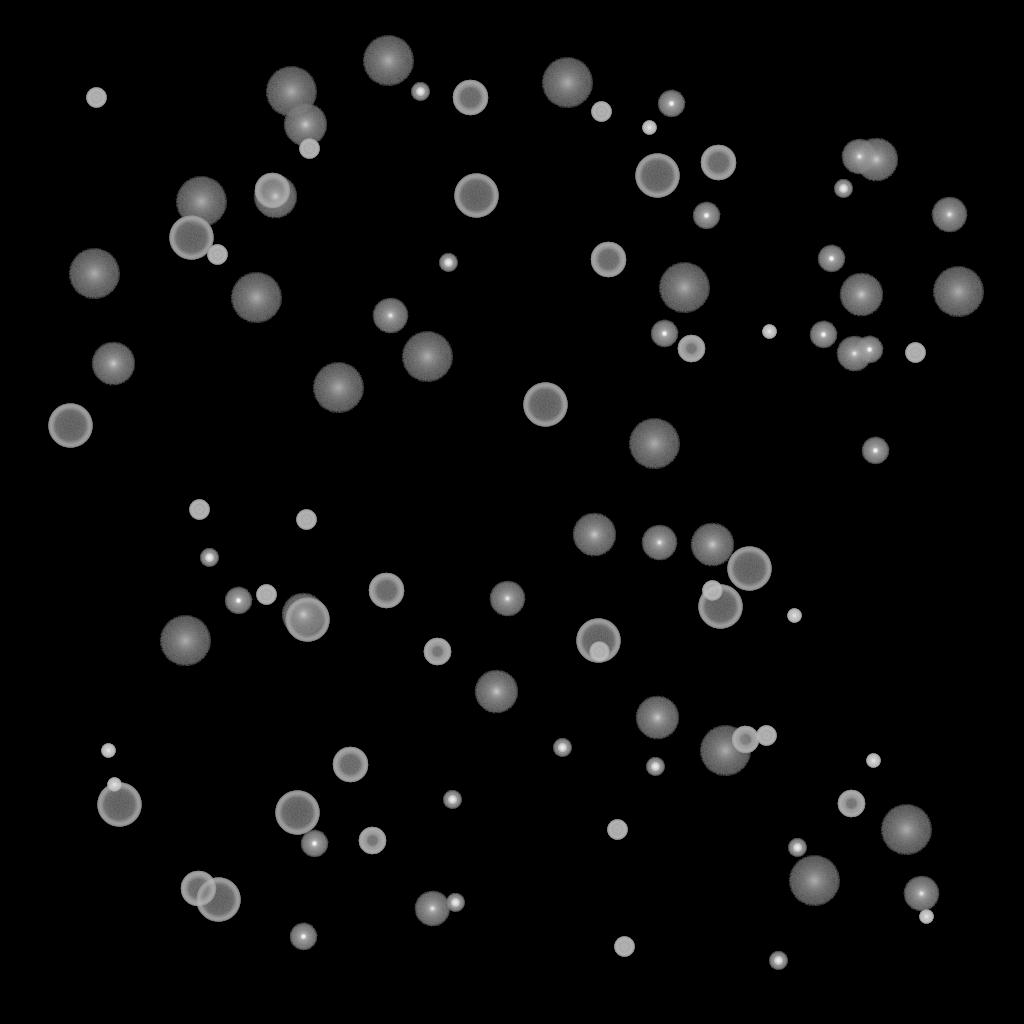depth:-10: (861, 437, 889, 465), (657, 90, 685, 118), (650, 320, 678, 348), (855, 336, 883, 364), (289, 923, 317, 951), (692, 202, 720, 230), (817, 245, 845, 273), (809, 321, 837, 349), (300, 830, 328, 858), (224, 587, 252, 615)
depth:-20: (834, 180, 852, 198), (439, 254, 457, 272), (446, 894, 464, 912), (200, 549, 218, 567), (788, 839, 806, 857), (646, 758, 664, 776), (443, 791, 461, 809), (411, 83, 429, 101), (769, 952, 787, 970), (553, 739, 571, 757)
depth:-30: (762, 325, 776, 339), (101, 744, 115, 758), (642, 121, 656, 135), (787, 609, 801, 623), (919, 910, 933, 924), (107, 778, 121, 792), (866, 754, 880, 768)
depth:-40: (86, 88, 106, 108), (614, 937, 634, 957), (591, 102, 611, 122), (189, 500, 209, 520), (756, 726, 776, 746), (207, 245, 227, 265), (589, 642, 609, 662), (607, 820, 627, 840), (296, 510, 316, 530), (905, 343, 925, 363), (702, 581, 722, 601), (299, 139, 319, 159), (256, 585, 276, 605)
depth:-50: (677, 335, 705, 363), (837, 790, 865, 818), (731, 726, 759, 754), (358, 827, 386, 855), (423, 638, 451, 666)
depth:-60: (368, 573, 404, 609), (332, 747, 368, 783), (452, 80, 488, 116), (700, 145, 736, 181), (180, 871, 216, 907), (254, 173, 290, 209), (590, 242, 626, 278)
depth:-70: (275, 791, 319, 835), (285, 598, 329, 642), (169, 216, 213, 260), (727, 547, 771, 591), (48, 404, 92, 448), (196, 878, 240, 922), (576, 619, 620, 663), (523, 383, 567, 427), (97, 783, 141, 827), (698, 585, 742, 629), (454, 174, 498, 218), (635, 154, 679, 198)
depth:0: (931, 197, 967, 233), (414, 891, 450, 927), (903, 876, 939, 912), (836, 336, 872, 372), (372, 298, 408, 334), (641, 525, 677, 561), (841, 139, 877, 175), (489, 581, 525, 617)
depth:10: (91, 342, 135, 386), (253, 175, 297, 219), (690, 523, 734, 567), (635, 696, 679, 740), (283, 103, 327, 147), (572, 513, 616, 557), (839, 273, 883, 317), (854, 138, 898, 182), (474, 670, 518, 714), (281, 593, 325, 637)
depth:20: (230, 273, 282, 323), (312, 363, 364, 413), (175, 177, 227, 227), (628, 419, 680, 469), (541, 58, 593, 108), (788, 856, 840, 906), (265, 67, 317, 117), (401, 332, 453, 382), (932, 267, 984, 317), (658, 263, 710, 313), (68, 249, 120, 299), (159, 616, 211, 666), (699, 726, 751, 776), (880, 805, 932, 855), (362, 36, 414, 86)
